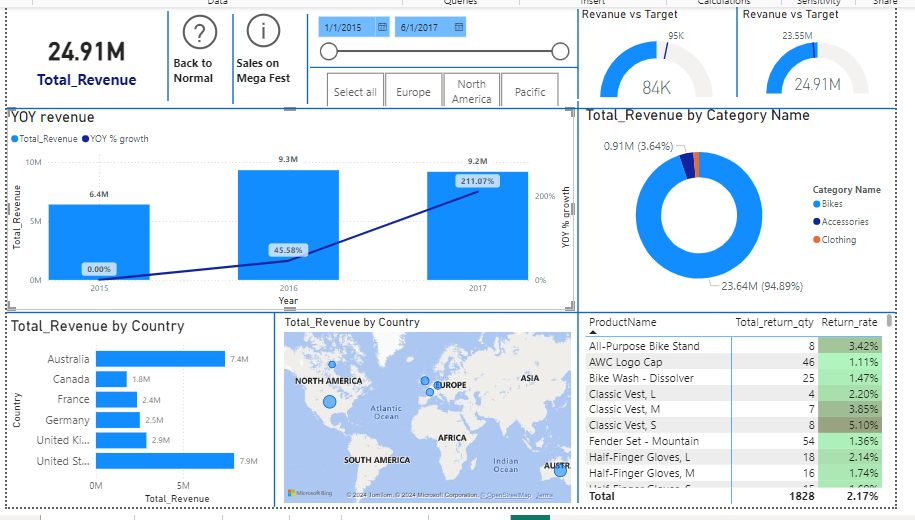

What the dashboard file says about the page in this screenshot:
{"tool":"powerbi","page":{"name":"Main Line","canvas":[1280,720],"ordinal":0},"visuals":[{"type":"lineStackedColumnComboChart","title":"YOY revenue","fields":{"Category":["d- Calendar.Year"],"Y":["All Measures.Total_Revanue"],"Y2":["All Measures.YOY % growth"]},"box":[0,145.4,816.5,290.9],"z":0},{"type":"donutChart","fields":{"Category":["d-Categories.Category Name"],"Y":["All Measures.Total_Revanue"]},"box":[828,142.6,452.2,290.9],"z":1000},{"type":"map","fields":{"Category":["d- Territories.Country"],"Size":["All Measures.Total_Revenue"]},"box":[394.6,443.5,421.9,276.5],"z":2000},{"type":"pivotTable","fields":{"Rows":["d- Products.ProductName"],"Values":["All Measures.Total_return_qty","All Measures.Return_rate"]},"box":[828,436.3,452.2,283.7],"z":3000},{"type":"shape","box":[436.3,80.6,385.9,13],"z":4000},{"type":"shape","box":[816.5,135.4,11.5,578.9],"z":5000},{"type":"shape","box":[0,433.4,1280.2,13],"z":6000},{"type":"shape","box":[377.3,440.6,15.8,279.4],"z":7000},{"type":"gauge","title":"Revanue vs Target","fields":{"Y":["All Measures.Total_Revanue"],"TargetValue":["All Measures.Target Revanue"]},"box":[1054.1,0,226.1,129.6],"z":8000},{"type":"gauge","title":"Revanue vs Target","fields":{"Y":["All Measures.Total_Order_Qty"],"TargetValue":["All Measures.Target Order"]},"box":[822.2,0,226.1,135.4],"z":9000},{"type":"shape","box":[1048.3,0,5.8,129.6],"z":10000},{"type":"shape","box":[819.4,2.9,5.8,129.6],"z":11000},{"type":"slicer","fields":{"Values":["d- Territories.Continent"]},"box":[434.9,87.8,383,54.7],"z":12000},{"type":"slicer","fields":{"Values":["d- Calendar.Start of Month"]},"box":[434.9,2.9,383,77.8],"z":13000},{"type":"shape","box":[229,5.8,5.8,129.6],"z":14000},{"type":"shape","box":[0,139.6,1280.2,13],"z":15000},{"type":"shape","box":[426.2,10.1,13,129.6],"z":16000},{"type":"actionButton","box":[338.4,2.9,87.8,61.9],"z":17000},{"type":"actionButton","box":[246.2,4.3,76.3,63.4],"z":18000},{"type":"textbox","box":[234.7,64.8,87.8,67.7],"z":19000},{"type":"textbox","box":[325.4,64.8,100.8,74.9],"z":20000},{"type":"shape","box":[322.6,10.1,5.8,129.6],"z":21000},{"type":"barChart","fields":{"Category":["d- Territories.Country"],"Y":["All Measures.Total_Revenue"]},"box":[0,446,377,274],"z":22000},{"type":"card","fields":{"Values":["All Measures.Total_Revenue"]},"box":[0,7.2,229,135.4],"z":23000}]}

Visuals, with their boxes on the page's 1280x720 design canvas (x1, y1, x2, y2). These are canvas units, not pixel positions in the 915x520 screenshot, which may show the page scaled, cropped or inside an application window:
"YOY revenue" lineStackedColumnComboChart: x1=0, y1=145, x2=816, y2=436
donutChart - d-Categories.Category Name x All Measures.Total_Revanue: x1=828, y1=143, x2=1280, y2=434
map - d- Territories.Country x All Measures.Total_Revenue: x1=395, y1=444, x2=816, y2=720
pivotTable - d- Products.ProductName x All Measures.Total_return_qty: x1=828, y1=436, x2=1280, y2=720
shape: x1=436, y1=81, x2=822, y2=94
shape: x1=816, y1=135, x2=828, y2=714
shape: x1=0, y1=433, x2=1280, y2=446
shape: x1=377, y1=441, x2=393, y2=720
"Revanue vs Target" gauge: x1=1054, y1=0, x2=1280, y2=130
"Revanue vs Target" gauge: x1=822, y1=0, x2=1048, y2=135
shape: x1=1048, y1=0, x2=1054, y2=130
shape: x1=819, y1=3, x2=825, y2=132
slicer - d- Territories.Continent: x1=435, y1=88, x2=818, y2=142
slicer - d- Calendar.Start of Month: x1=435, y1=3, x2=818, y2=81
shape: x1=229, y1=6, x2=235, y2=135
shape: x1=0, y1=140, x2=1280, y2=153
shape: x1=426, y1=10, x2=439, y2=140
actionButton: x1=338, y1=3, x2=426, y2=65
actionButton: x1=246, y1=4, x2=322, y2=68
textbox: x1=235, y1=65, x2=322, y2=132
textbox: x1=325, y1=65, x2=426, y2=140
shape: x1=323, y1=10, x2=328, y2=140
barChart - d- Territories.Country x All Measures.Total_Revenue: x1=0, y1=446, x2=377, y2=720
card - All Measures.Total_Revenue: x1=0, y1=7, x2=229, y2=143
